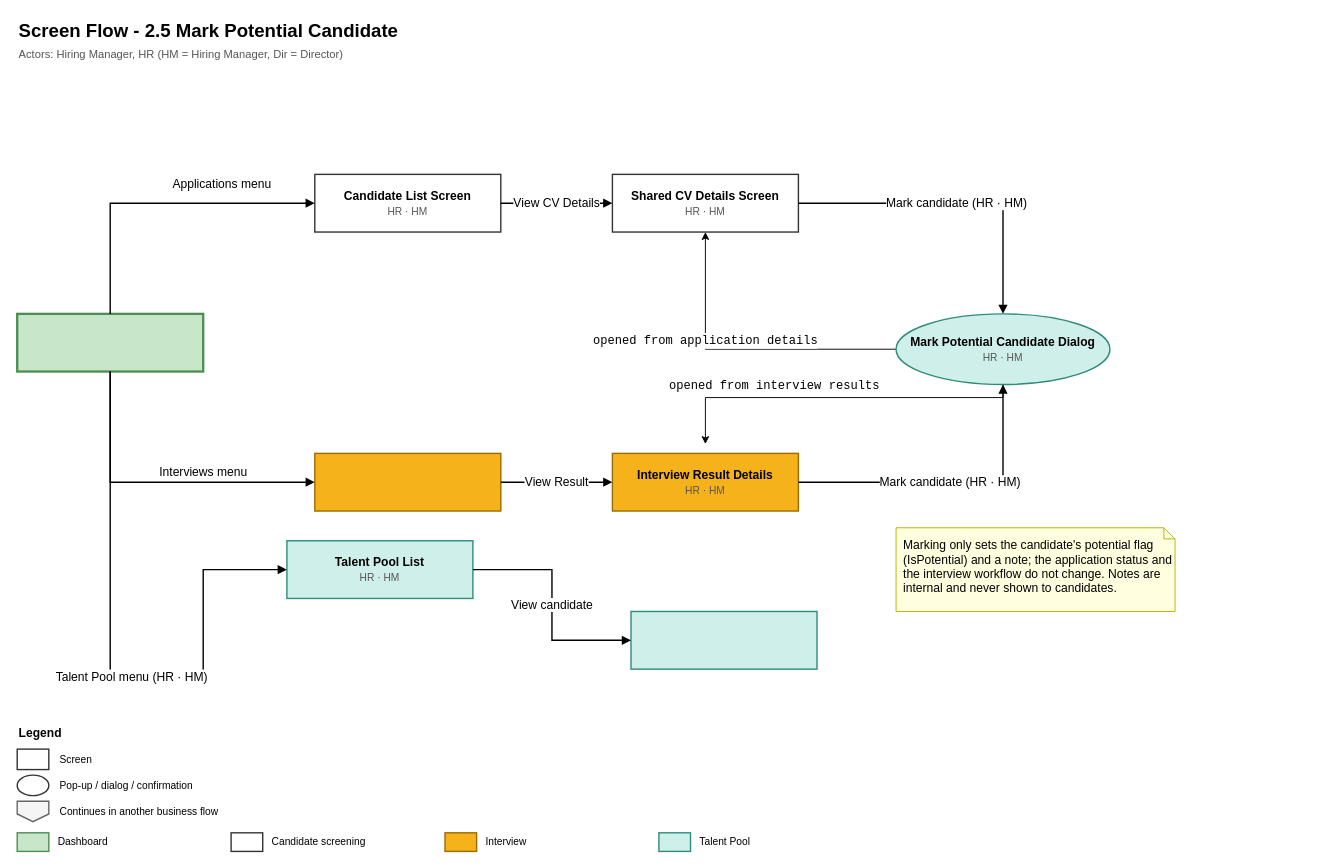
This 1335x868 diagram has some shape labels left out. Here are the shapes that lost their labels. From the top down, the centre of each, then its label:
At (x=110, y=342): "Dashboard HR · HM".
At (x=407, y=481): "Interview Schedule List HR · HM".
At (x=723, y=639): "Talent Pool Candidate Detail HR · HM".
